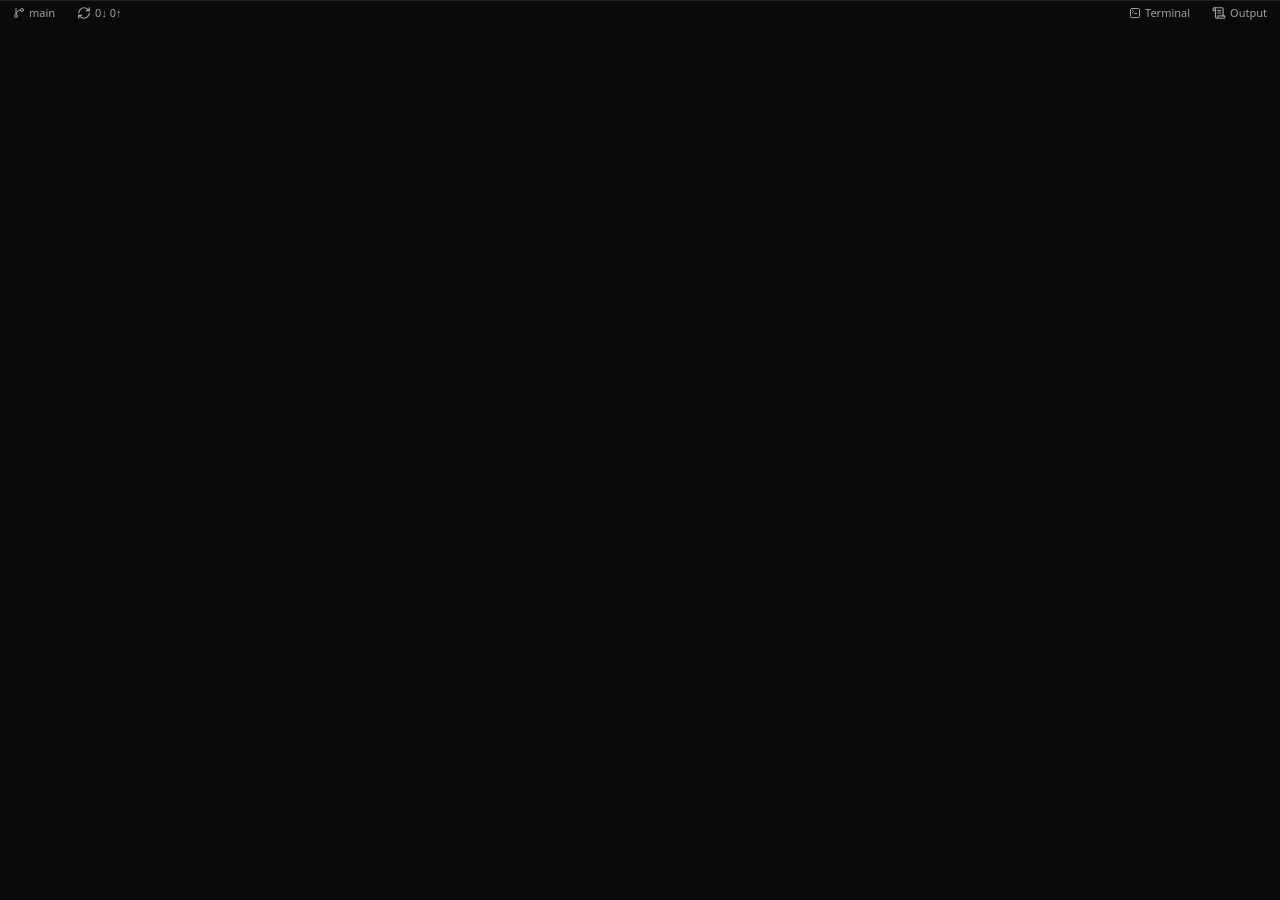
it: branch picker › a refusal is shown in the picker, which stays open
The width and height of the screenshot is (1280, 900).
What coordinates should you click on to do the following:
click the button with aria-label "Branch main"
I would click on:
 (34, 12)
Its box is [4, 0, 64, 24].
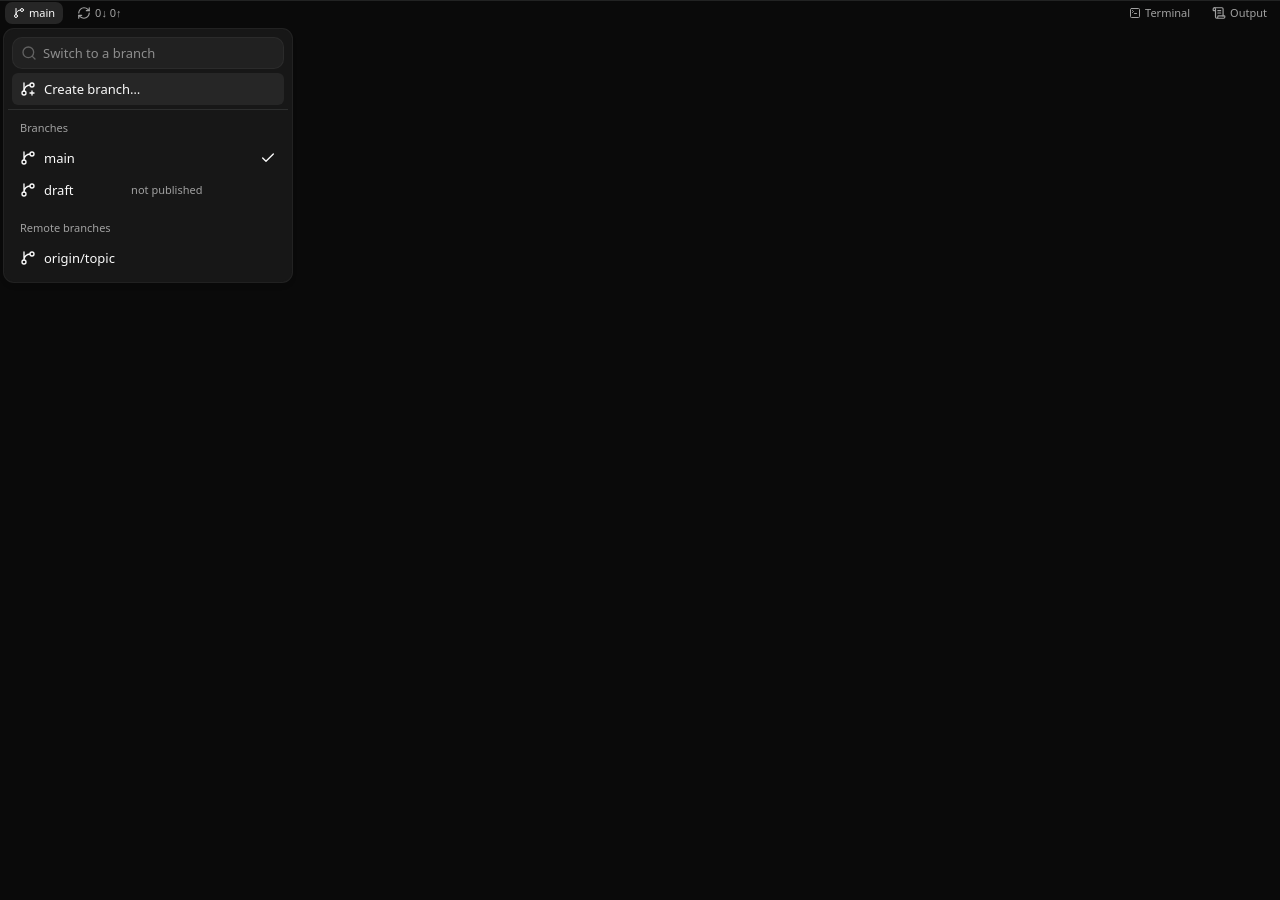
What coordinates should you click on to do the following:
click the option "draft not published"
I would click on:
 (167, 190)
Its box is [20, 181, 202, 199].
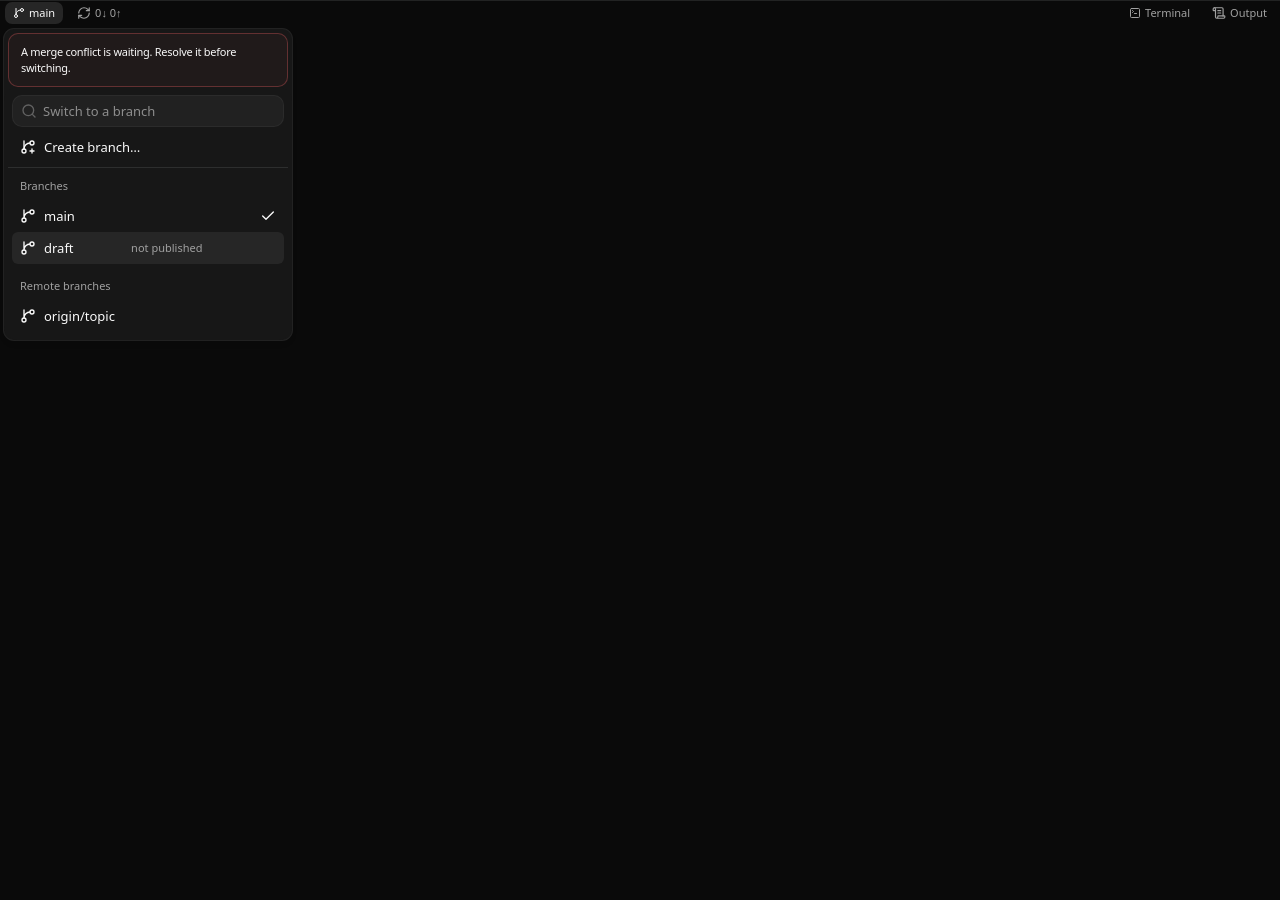
Expected: the dropdown with placeholder "Switch to a branch" is shown, [37, 101, 283, 121]
Expected: the text "A merge conflict is waiting. Resolve it before switching." is shown, [21, 44, 236, 75]
